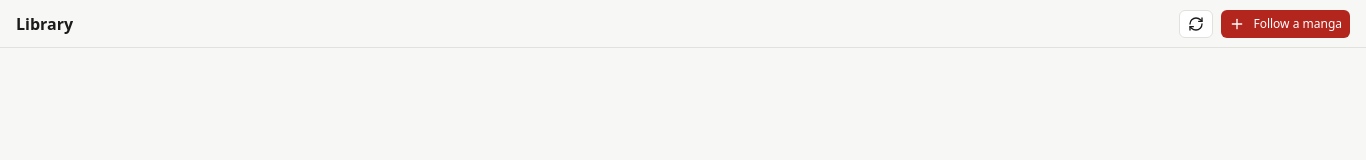
Test case: screen header actions › go icon-only with the label in the Hint (hover and focus) when it is narrow
The image size is (1366, 160).
Hover over the button named "Check for updates" at (1196, 24), box [1179,10,1213,38]
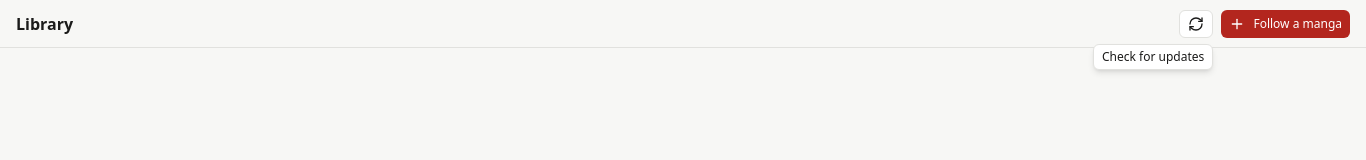
expect the tooltip reads "Check for updates": met, box [1102,48,1204,65]
Move the pointer off the button named "Check for updates", box [1179,10,1213,38]
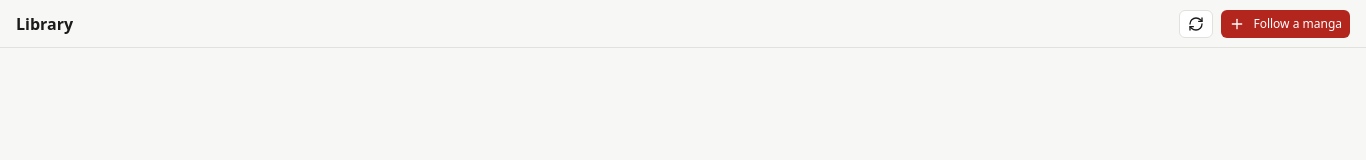
Press Escape
Press Tab
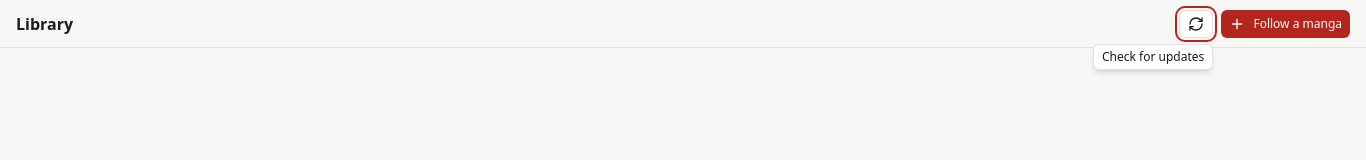
expect the tooltip reads "Check for updates": met, box [1102,48,1204,65]
